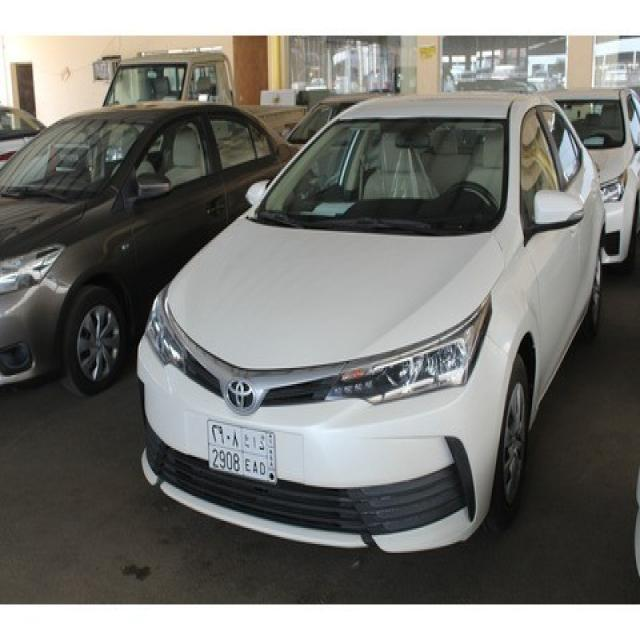license_plate: (205, 416, 279, 485)
